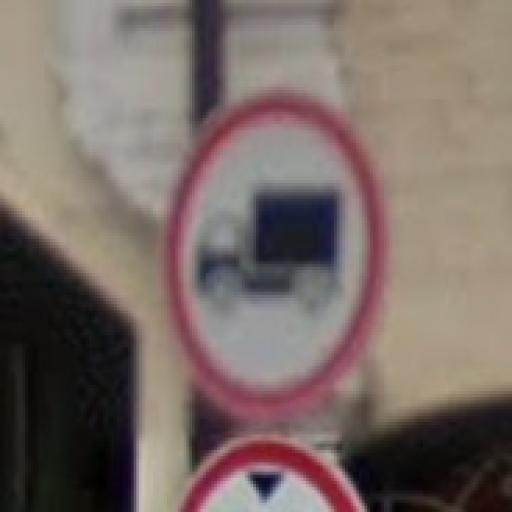traffic_sign: (162, 94, 388, 420)
